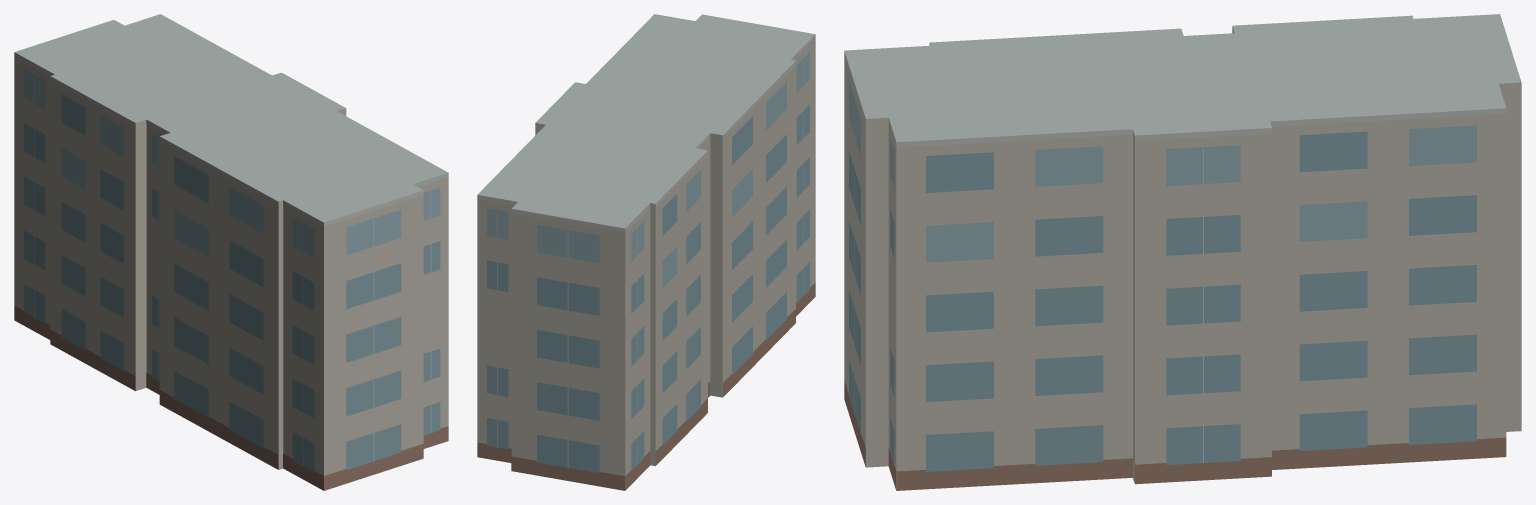
The model's file is survey-upis-32975428.glb.
3 renders of one model, left to right at view 1: azimuth 30°, elevation 25°; view 2: azimuth 150°, elevation 25°; view 3: azimuth 270°, elevation 25°, orthographic. The views are drawn at different scales.
Parts seen in each view (by area): view 1: survey-upis-32975428.tmp; view 2: survey-upis-32975428.tmp; view 3: survey-upis-32975428.tmp.
Part boxes in pixels (x1,y1,x2,y2): survey-upis-32975428.tmp: (14,14,448,490); survey-upis-32975428.tmp: (477,14,815,490); survey-upis-32975428.tmp: (844,14,1521,490).
Bounding box in the file's own units: 11.88 × 15.05 × 26.51.
